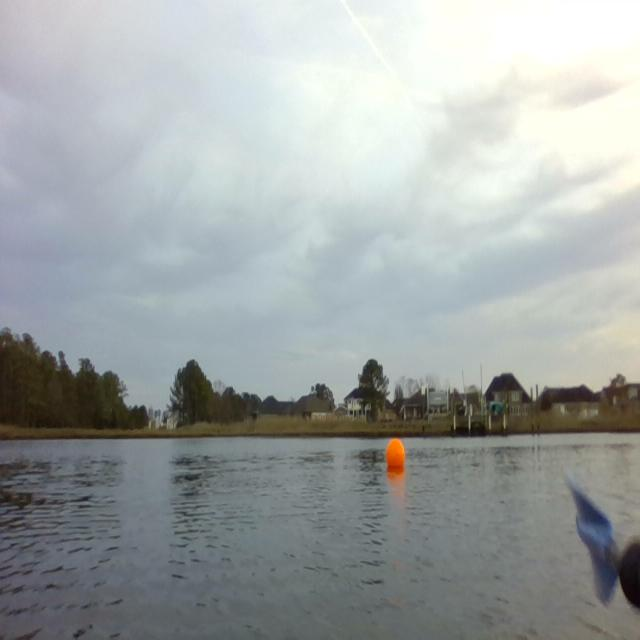Buoy: (384, 434, 407, 472)
